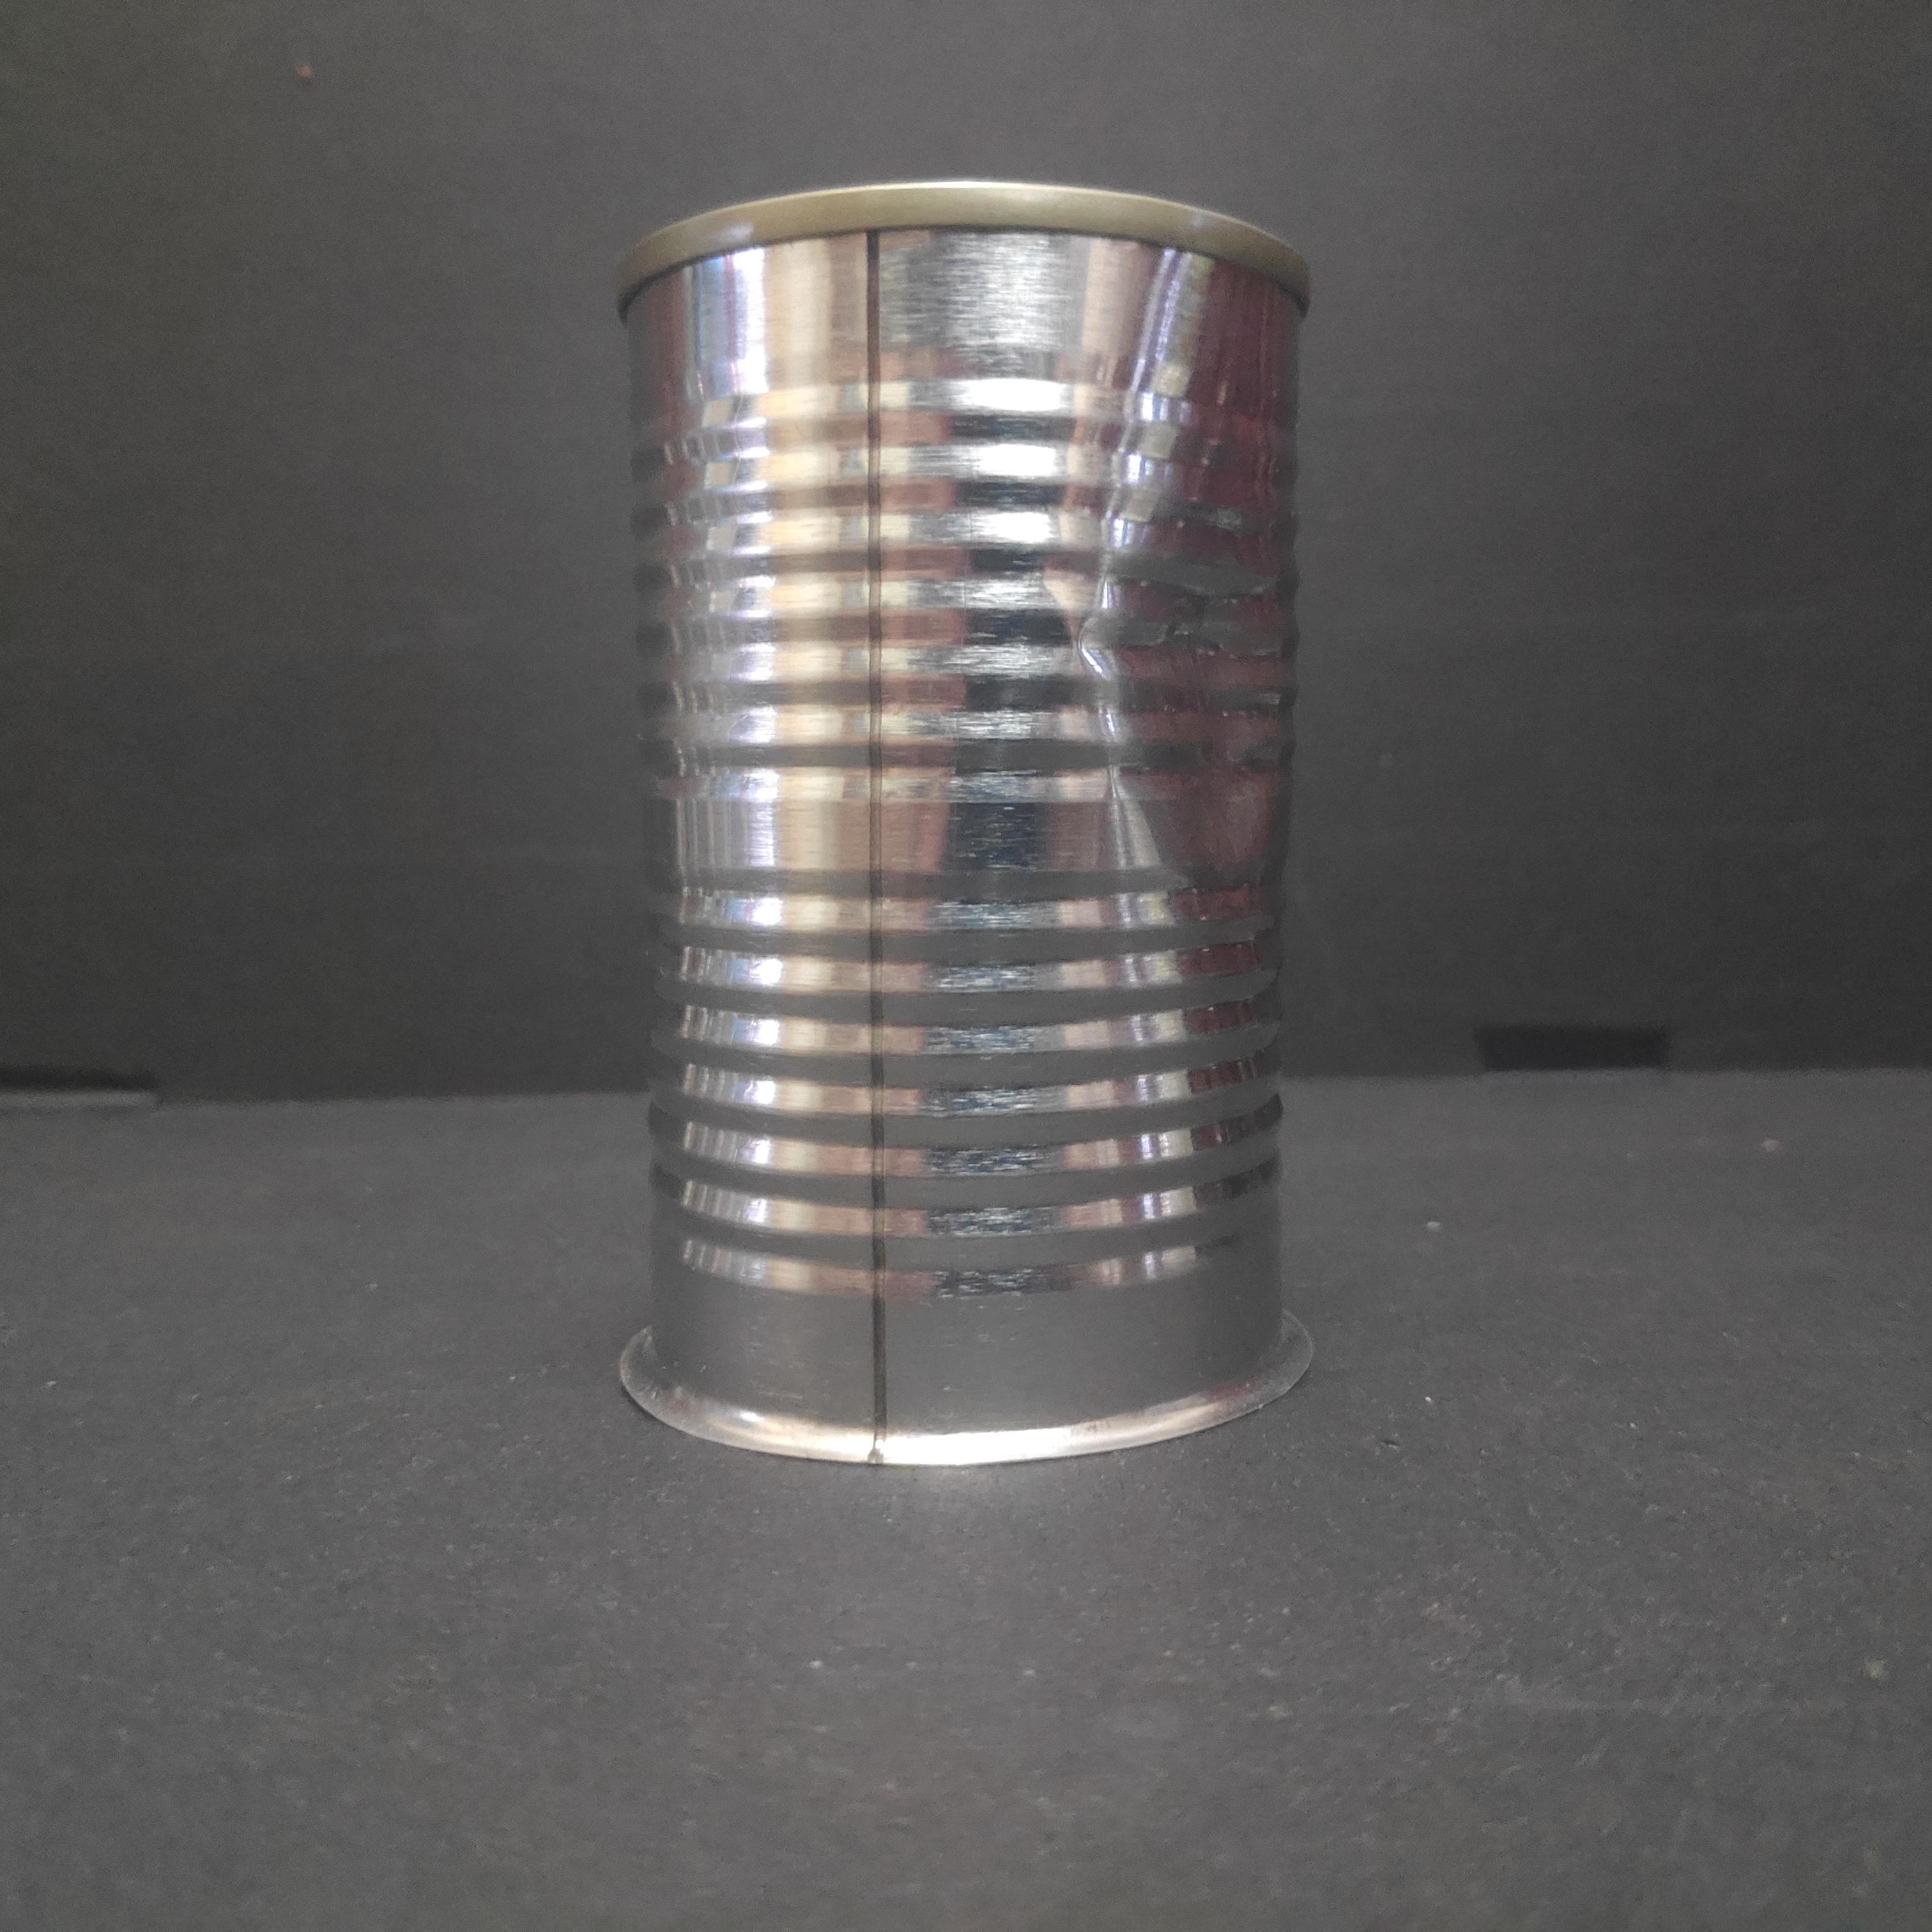Dented: (579, 147, 1339, 1470)
